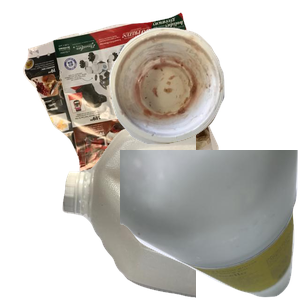glass: (120, 150, 300, 300)
paper: (20, 10, 231, 190)
plastic: (60, 120, 300, 300)
trash: (107, 25, 300, 162)
